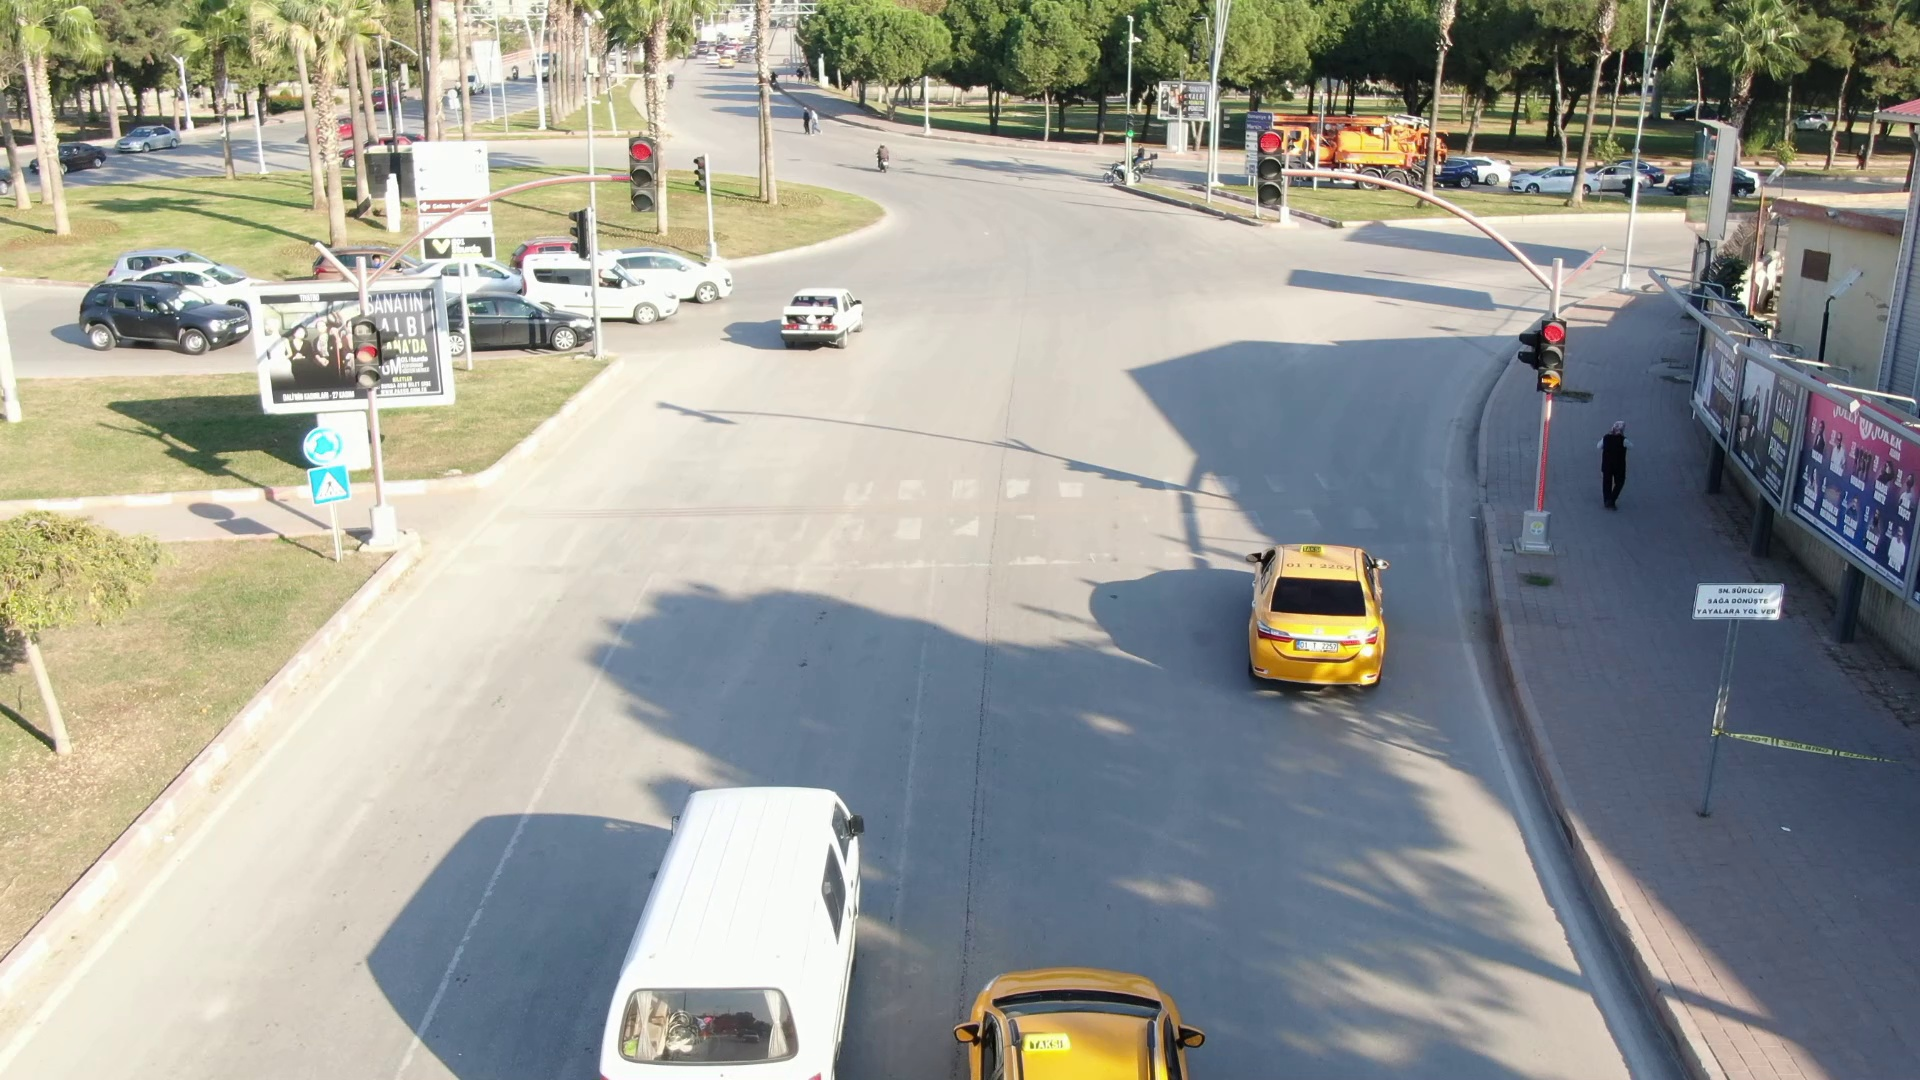car: (593, 786, 896, 1080), (1231, 525, 1404, 702), (63, 272, 251, 357), (515, 251, 684, 325), (451, 290, 606, 359), (600, 237, 739, 302), (768, 286, 866, 353)
person: (1592, 414, 1645, 519)
